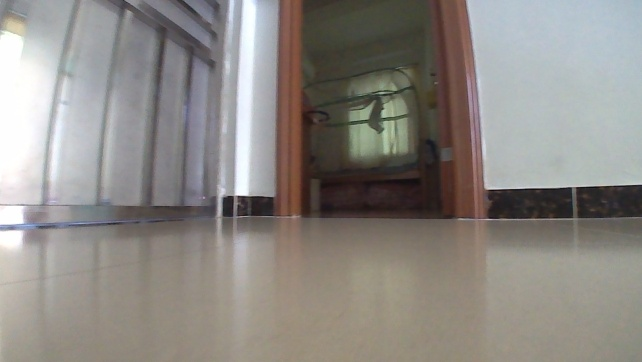bed1: (314, 135, 434, 212)
